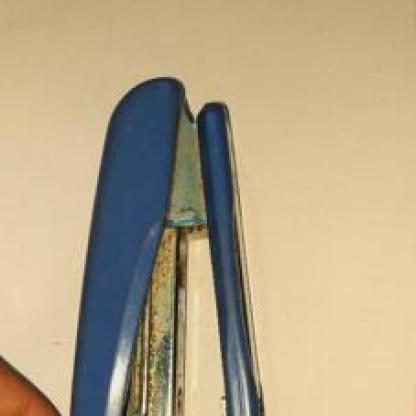stapler: (51, 53, 306, 414)
